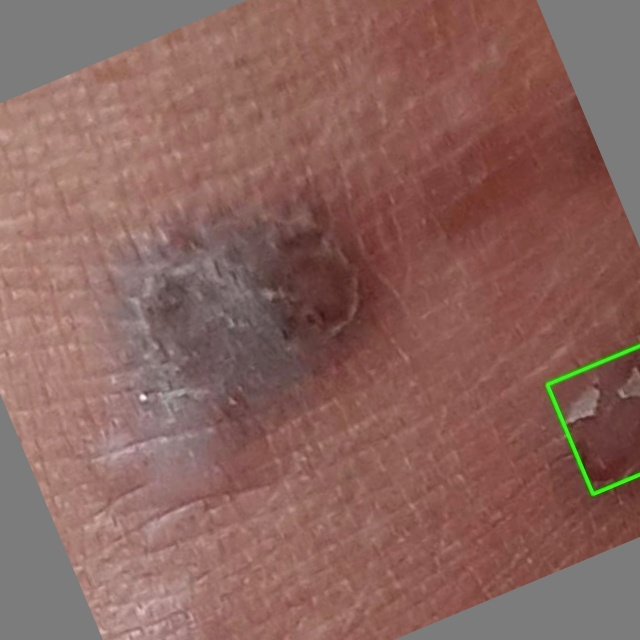Contact Dermatitis: (547, 346, 639, 494)
